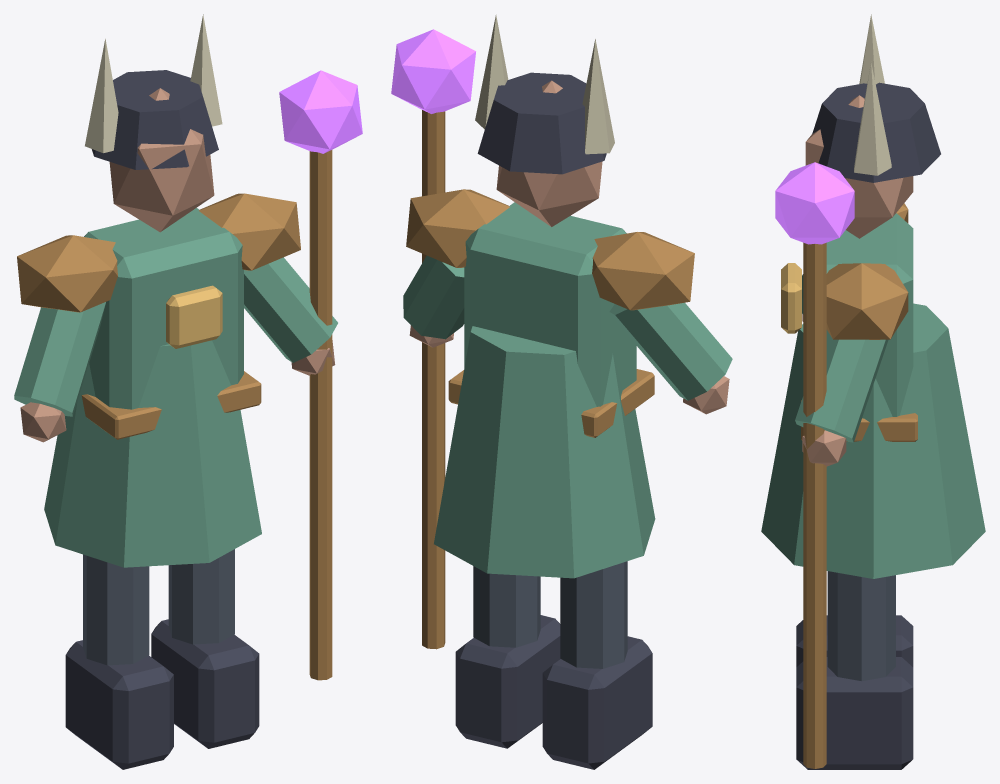
Rendered from vaelis-vinculo.fbx.
3 renders of one model, left to right at view 1: azimuth 30°, elevation 25°; view 2: azimuth 150°, elevation 25°; view 3: azimuth 270°, elevation 25°, orthographic. The views are drawn at different scales.
Visible parts, largest first — view 1: coat.002, torso.002, binding crook, boot.004, boot.005, hair.002, head.002, leg.004, sleeve.004, scale pauldron, sleeve.005, leg.005 (+8 smaller); view 2: coat.002, torso.002, boot.004, boot.005, hair.002, binding crook, sleeve.004, scale pauldron, leg.004, bond focus, scale pauldron.001, leg.005 (+6 smaller); view 3: coat.002, binding crook, boot.005, hair.002, leg.005, torso.002, scale pauldron.001, bond focus, sleeve.005, head.002, horn crown.001, dragon-bond chest medallion (+4 smaller).
Boxes of the visible parts, x1=… form: coat.002: x1=44, y1=340, x2=261, y2=567; torso.002: x1=84, y1=208, x2=243, y2=409; binding crook: x1=309, y1=150, x2=332, y2=680; boot.004: x1=65, y1=640, x2=173, y2=769; boot.005: x1=151, y1=619, x2=259, y2=748; hair.002: x1=92, y1=70, x2=218, y2=169; head.002: x1=109, y1=88, x2=214, y2=232; leg.004: x1=83, y1=554, x2=149, y2=665; sleeve.004: x1=14, y1=302, x2=105, y2=416; scale pauldron: x1=17, y1=235, x2=117, y2=312; sleeve.005: x1=244, y1=257, x2=337, y2=362; leg.005: x1=168, y1=549, x2=234, y2=644; coat.002: x1=434, y1=326, x2=655, y2=578; torso.002: x1=464, y1=202, x2=636, y2=406; boot.004: x1=542, y1=636, x2=652, y2=769; boot.005: x1=455, y1=615, x2=560, y2=748; hair.002: x1=477, y1=72, x2=606, y2=174; binding crook: x1=422, y1=110, x2=445, y2=649; sleeve.004: x1=609, y1=302, x2=732, y2=400; scale pauldron: x1=592, y1=232, x2=694, y2=310; leg.004: x1=560, y1=561, x2=627, y2=668; bond focus: x1=391, y1=29, x2=475, y2=113; scale pauldron.001: x1=406, y1=189, x2=509, y2=267; leg.005: x1=473, y1=566, x2=540, y2=647; coat.002: x1=761, y1=303, x2=985, y2=578; binding crook: x1=803, y1=242, x2=826, y2=768; boot.005: x1=796, y1=657, x2=913, y2=769; hair.002: x1=812, y1=82, x2=940, y2=182; leg.005: x1=827, y1=571, x2=895, y2=681; torso.002: x1=826, y1=213, x2=913, y2=416; scale pauldron.001: x1=826, y1=263, x2=908, y2=339; bond focus: x1=775, y1=162, x2=854, y2=244; sleeve.005: x1=795, y1=330, x2=888, y2=442; head.002: x1=805, y1=95, x2=913, y2=238; horn crown.001: x1=854, y1=61, x2=891, y2=175; dragon-bond chest medallion: x1=781, y1=263, x2=801, y2=333.
Bounding box in the file's own units: 81.89 × 166 × 48.
